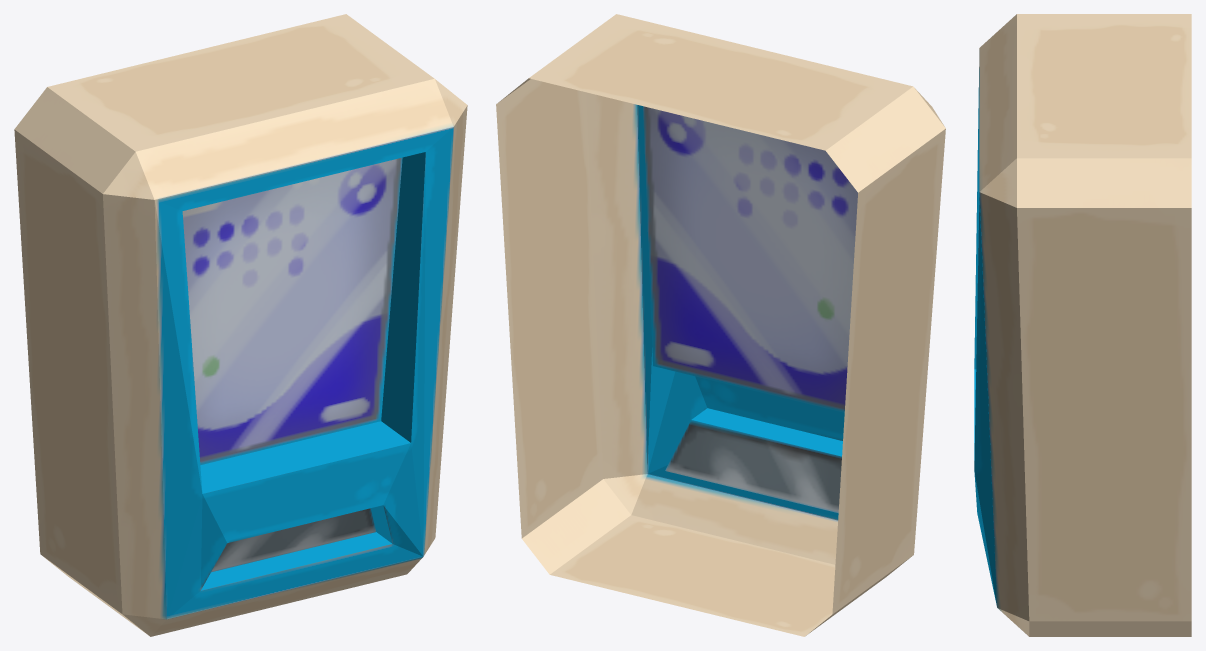
The model's file is borne_billet.fbx.
3 views of the same model, side by side, from view 1: azimuth 30°, elevation 25°; view 2: azimuth 150°, elevation 25°; view 3: azimuth 270°, elevation 25° (orthographic).
Visible parts, largest first — view 1: billet; view 2: billet; view 3: billet.
Part boxes in pixels (box(x1,y1,x2,y2)): billet: box(14, 14, 467, 636); billet: box(496, 14, 945, 636); billet: box(974, 14, 1191, 636).
Bounding box in the file's own units: 59.06 × 76.6 × 30.85.
